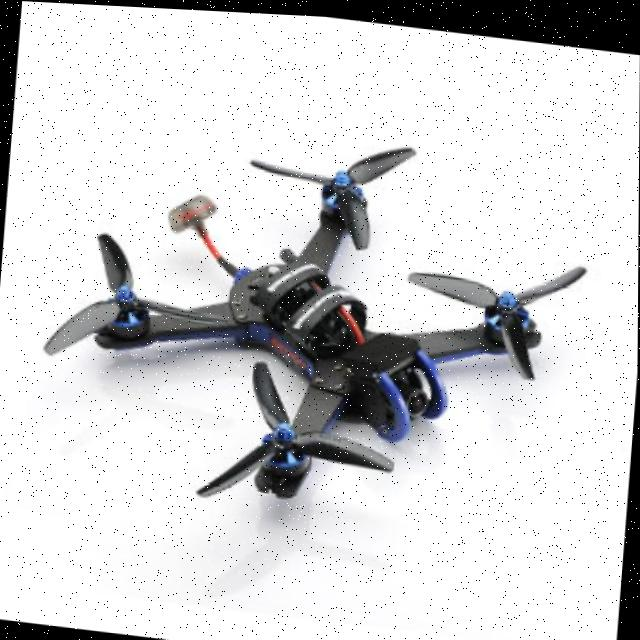drones: (14, 78, 586, 576)
